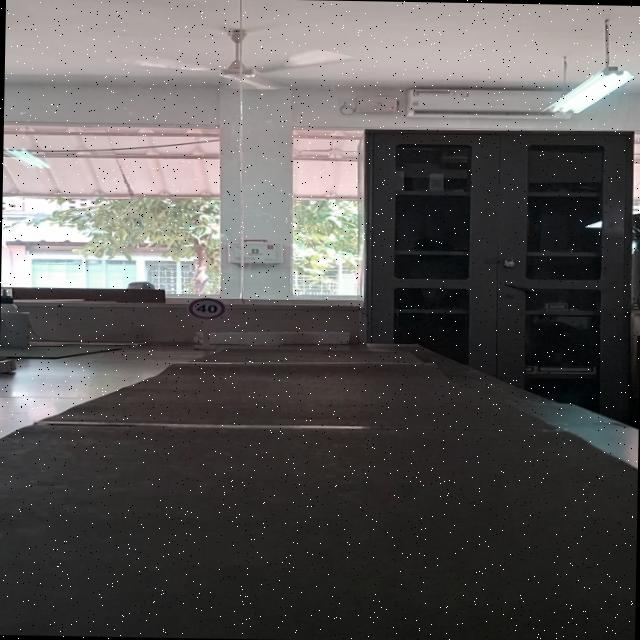Speed40: (186, 296, 226, 320)
